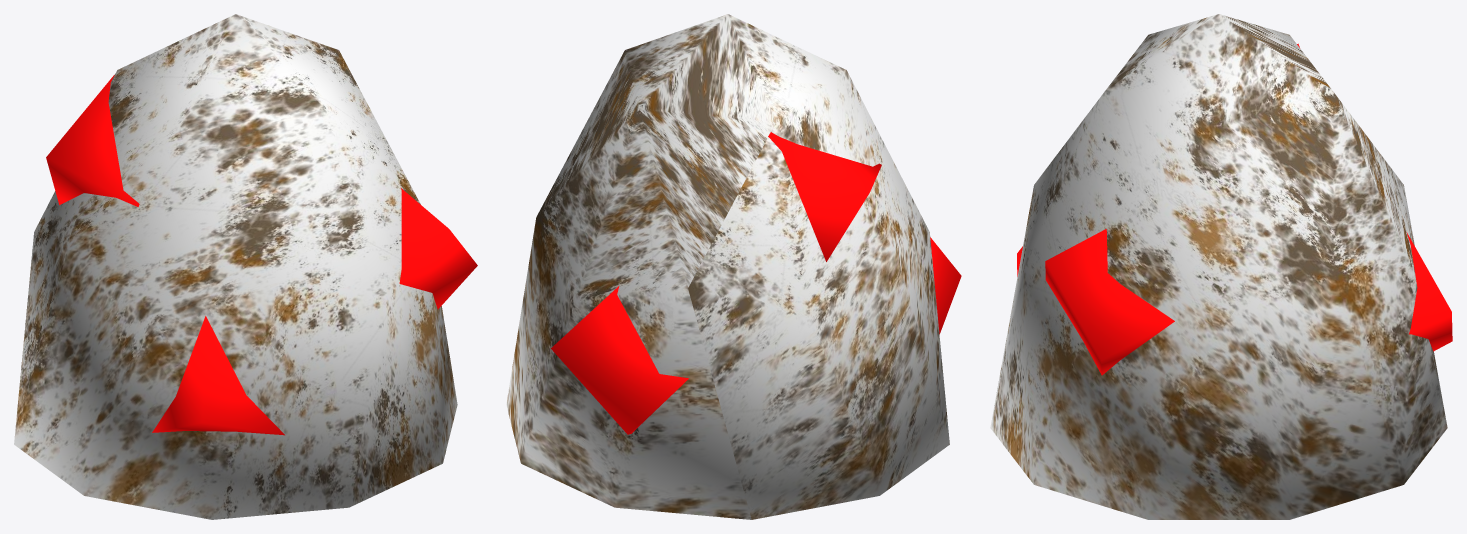
Rendered from Mineral_Red.fbx.
3 renders of one model, left to right at view 1: azimuth 30°, elevation 25°; view 2: azimuth 150°, elevation 25°; view 3: azimuth 270°, elevation 25°, orthographic.
Visible parts, largest first — view 1: Icosphere, Cube.003; view 2: Icosphere, Cube.003; view 3: Icosphere, Cube.003.
Part boxes in pixels (x1,y1,x2,y2): Icosphere: [14, 14, 457, 519]; Cube.003: [46, 75, 477, 435]; Icosphere: [506, 14, 949, 519]; Cube.003: [551, 132, 961, 434]; Icosphere: [990, 14, 1447, 519]; Cube.003: [1017, 43, 1452, 375].
Size of the model in its own units: 1.9 by 2 by 2.02.
2 materials, 1 textured.
